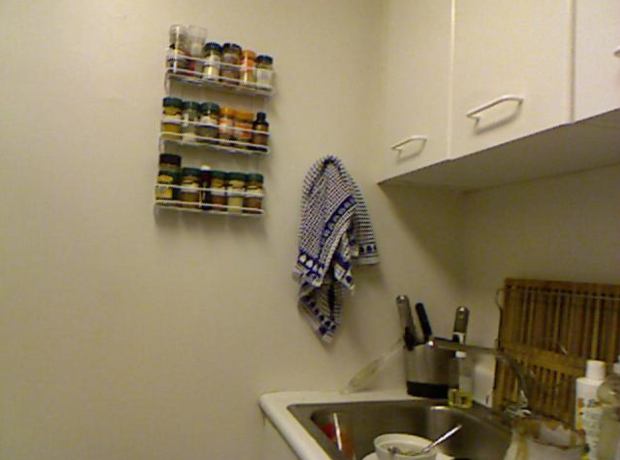cabinetDoor: (456, 0, 567, 124), (376, 4, 445, 169), (577, 2, 619, 109)
